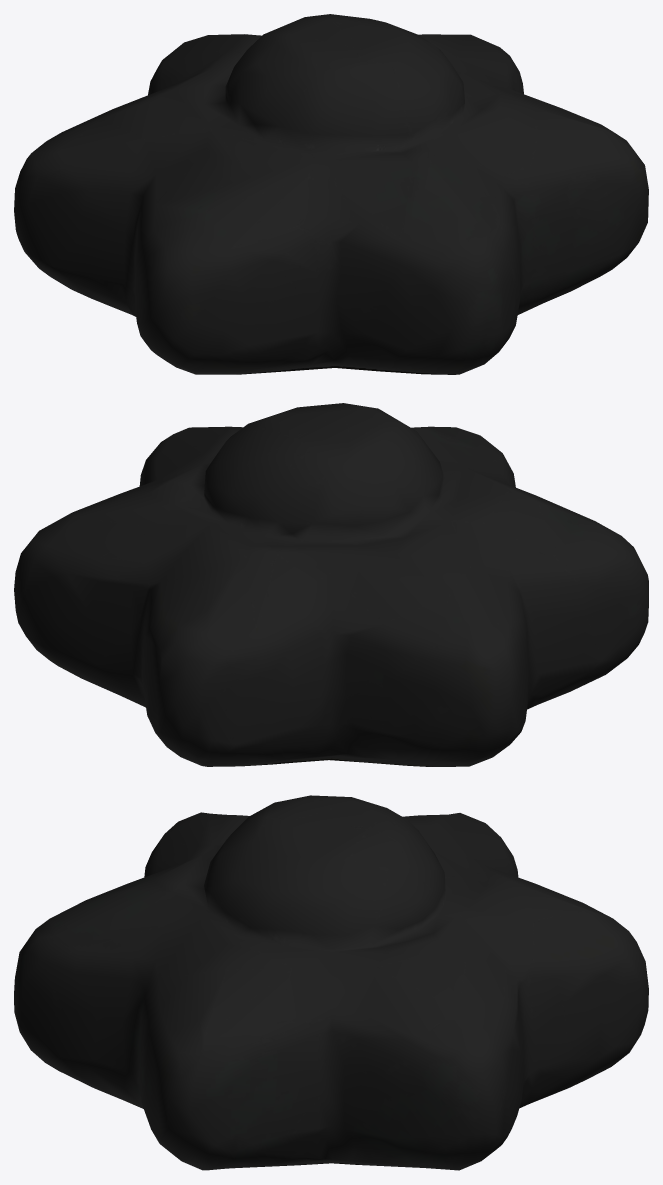
File: star-eye-mass.glb
3 views of the same model, one above another, from view 1: azimuth 30°, elevation 25°; view 2: azimuth 150°, elevation 25°; view 3: azimuth 270°, elevation 25° (orthographic). The views are drawn at different scales.
Visible parts, largest first — view 1: tripo_node_bdb72bc6-964b-43ca-9c1d-1b681987f62e; view 2: tripo_node_bdb72bc6-964b-43ca-9c1d-1b681987f62e; view 3: tripo_node_bdb72bc6-964b-43ca-9c1d-1b681987f62e.
Boxes of the visible parts, x1,y1,x2,y2 form: tripo_node_bdb72bc6-964b-43ca-9c1d-1b681987f62e: (14, 14, 648, 374); tripo_node_bdb72bc6-964b-43ca-9c1d-1b681987f62e: (14, 403, 648, 766); tripo_node_bdb72bc6-964b-43ca-9c1d-1b681987f62e: (14, 795, 648, 1170).
Size of the model in its own units: 0.9131 by 0.48 by 0.9798.
1 material, 1 textured.
